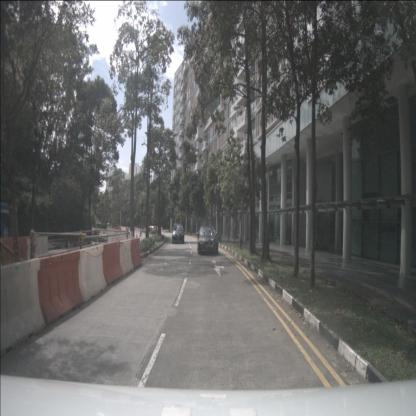barrier: (0, 258, 46, 358), (32, 251, 84, 326), (72, 245, 107, 303), (94, 241, 124, 286), (0, 236, 28, 270), (26, 235, 49, 267), (116, 240, 134, 276), (128, 238, 142, 270), (137, 228, 142, 236), (134, 227, 137, 235), (115, 226, 119, 232)
cone: (67, 241, 71, 255), (122, 227, 126, 233)
